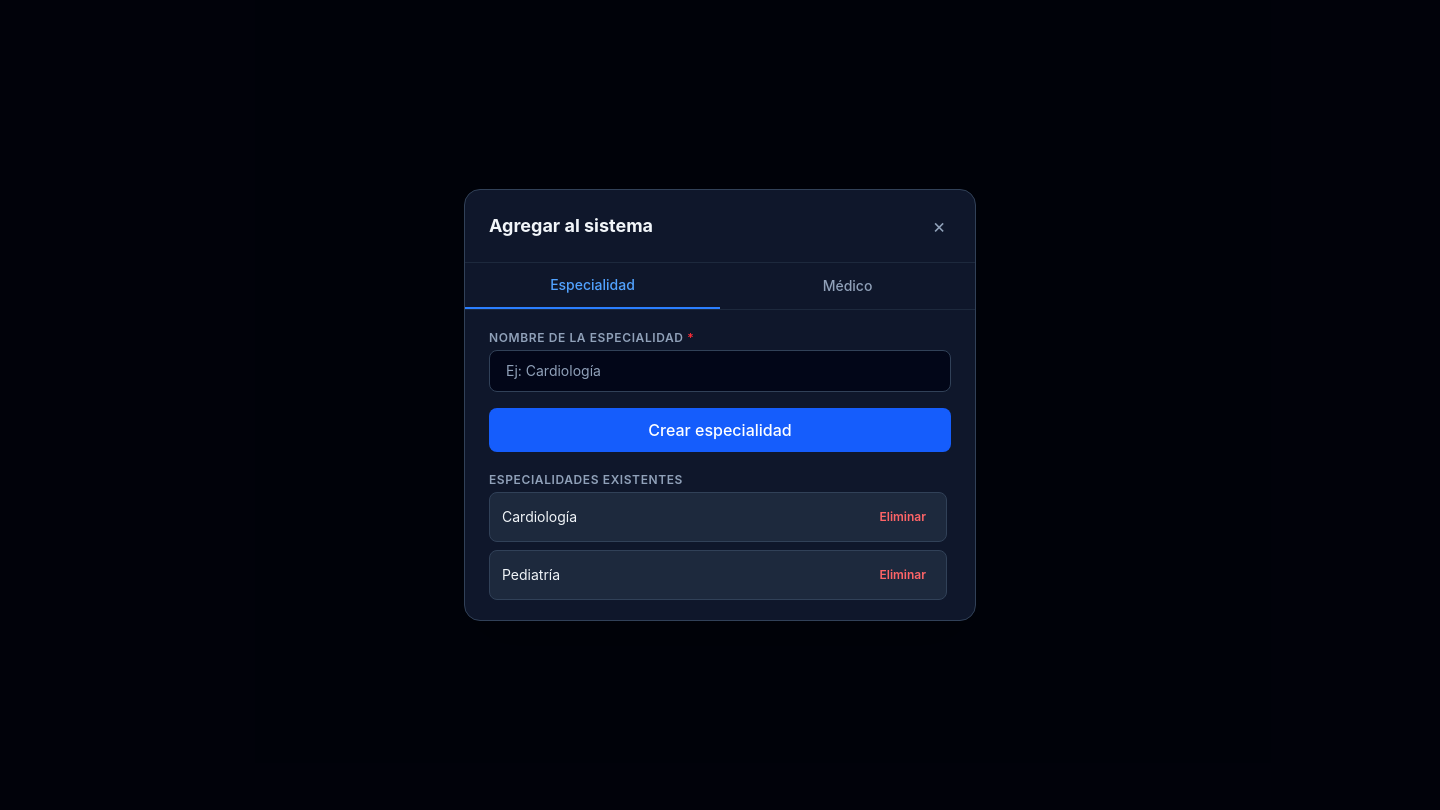
alta de especialidades › crea una especialidad, avisa y recarga la lista
Expected: the text "Cardiología" is shown, 502,507 -> 577,527
Step 1. Type "Neurología" into the field with placeholder "Ej: Cardiología" → (720, 371), box 489,350 -> 951,392
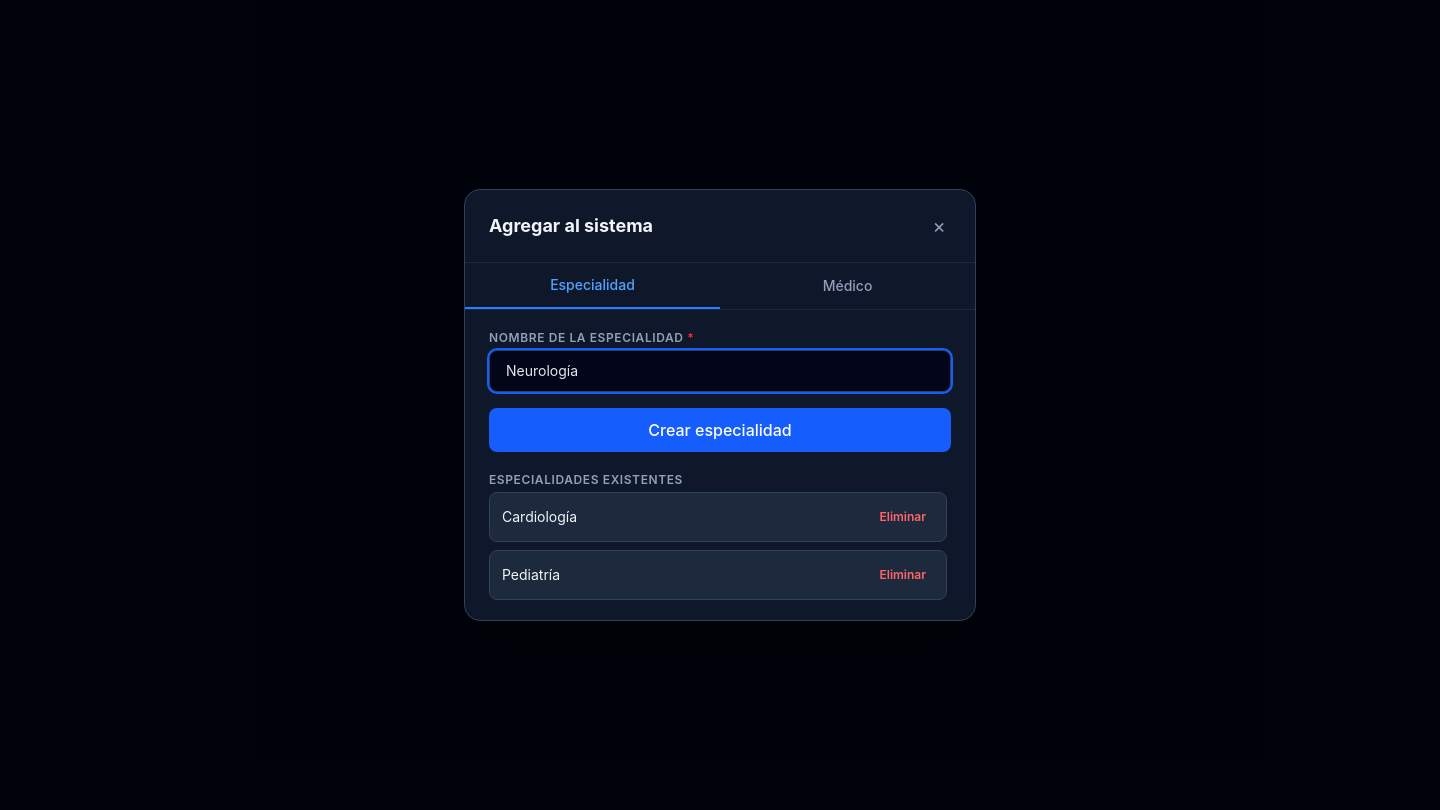
Step 2. Click the button "Crear especialidad" → (720, 430), box 489,408 -> 951,452
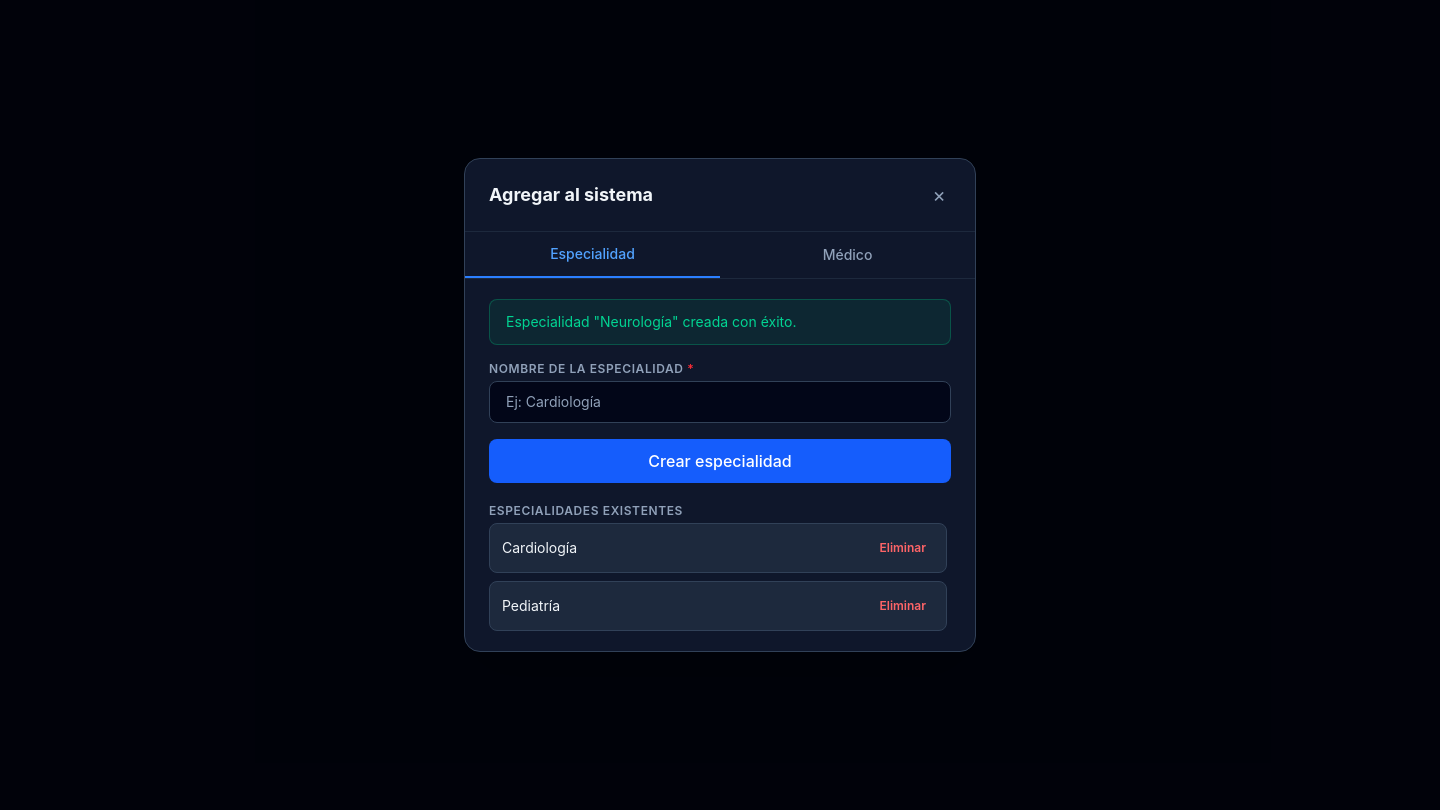
Now the text "Especialidad \"Neurología\" creada con éxito." is shown, box 489,299 -> 951,345
Now the field with placeholder "Ej: Cardiología" is empty, box 489,381 -> 951,423
